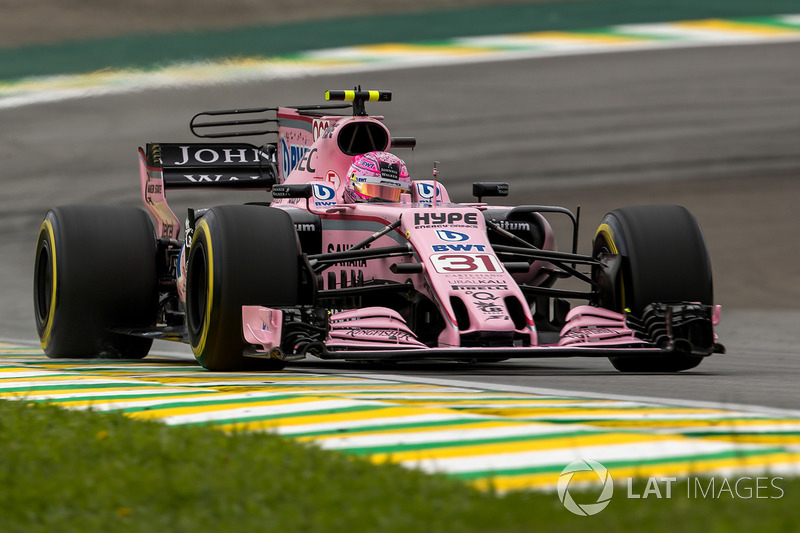F1 Car: (27, 82, 729, 399)
